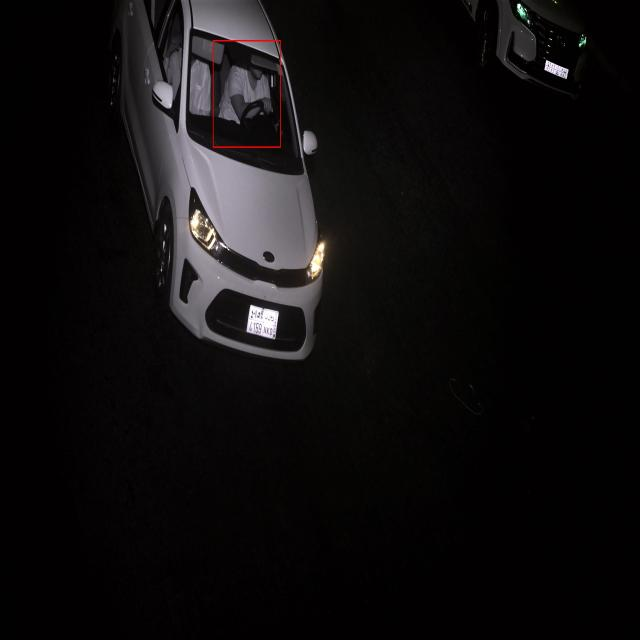windshield: (174, 22, 303, 182)
